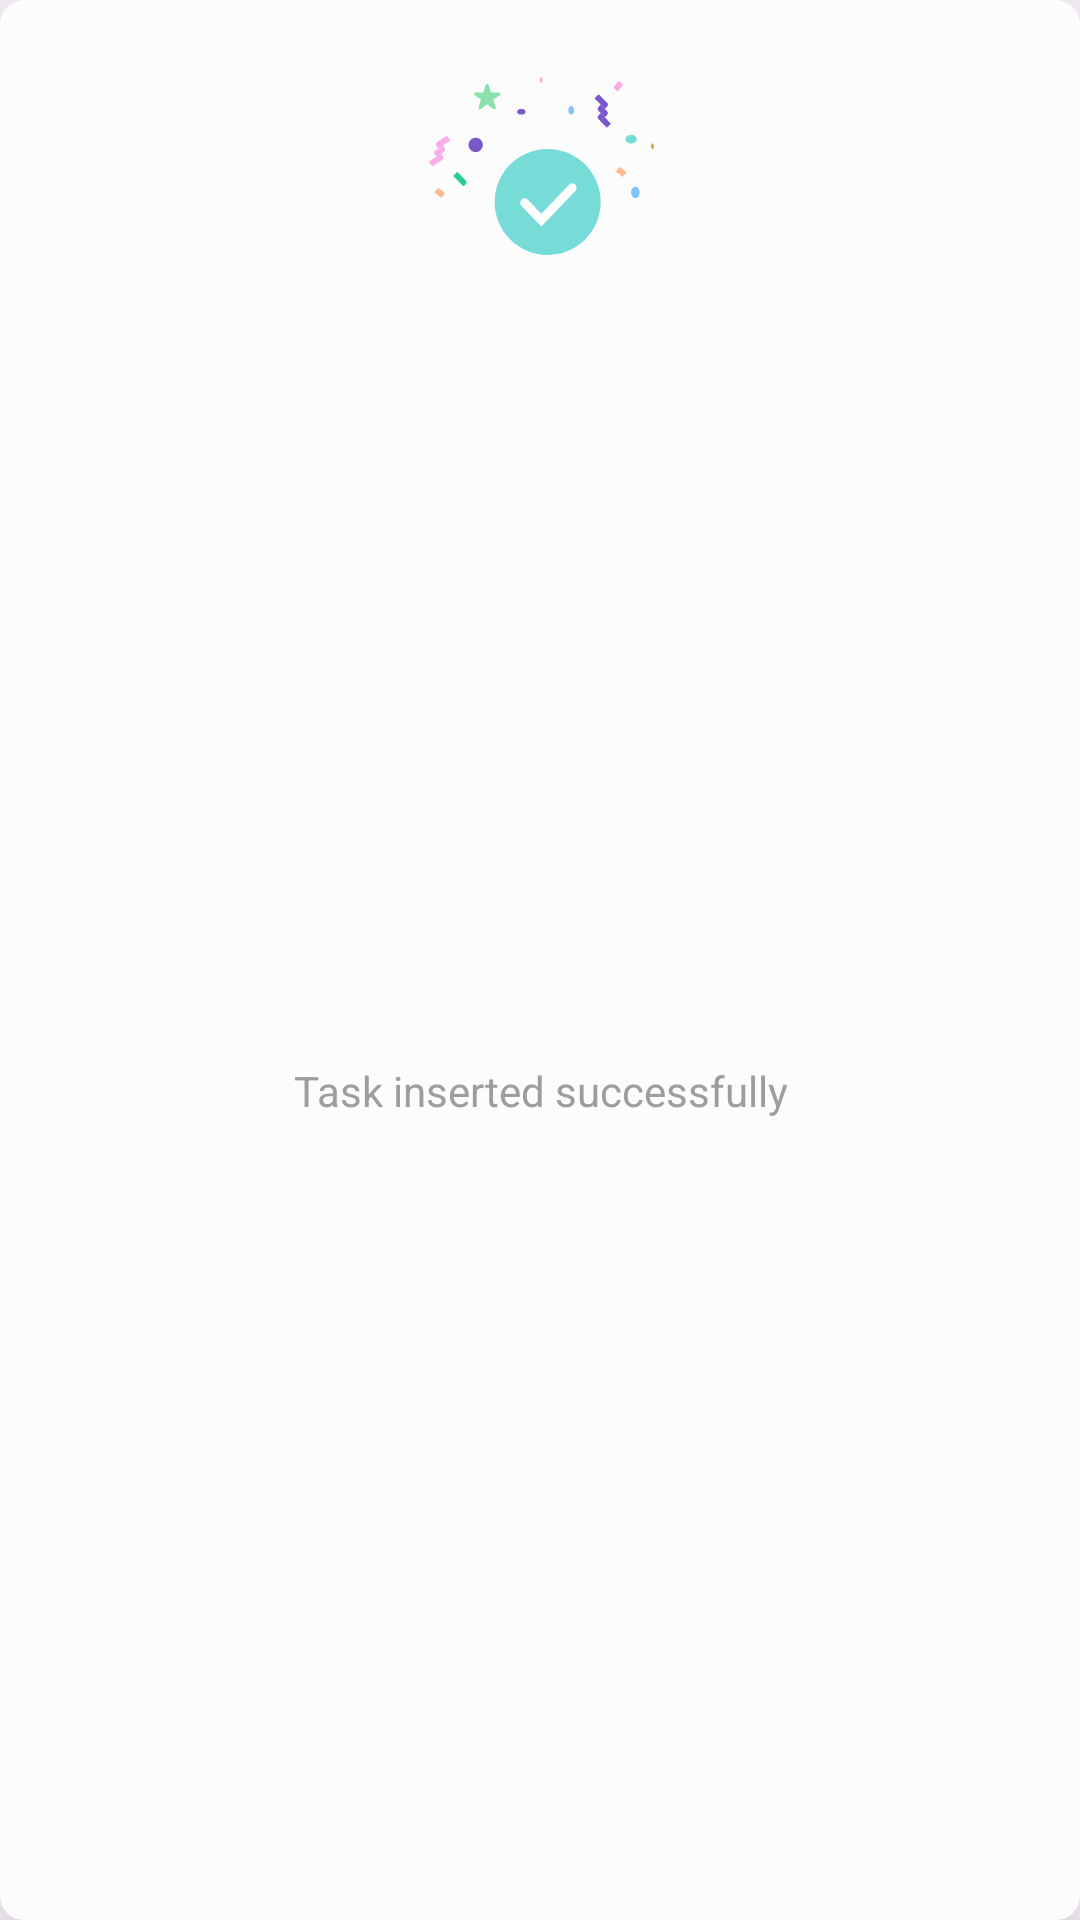

Where to tap for icons on this 1080*1920 app screen, as point (x, y):
succes: point (541, 166)
